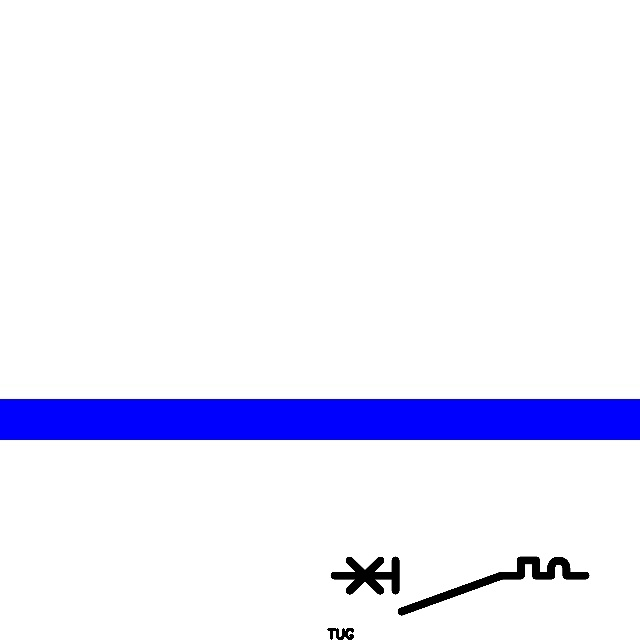interruptor_termomagnetico: (328, 554, 592, 618)
